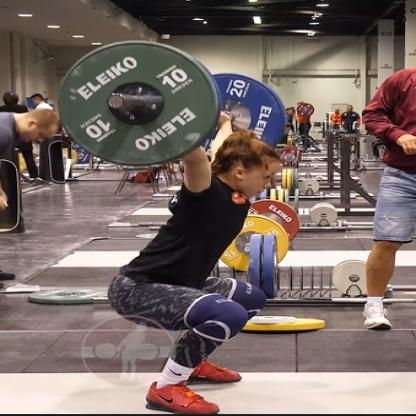Barbell: (52, 36, 232, 172)
